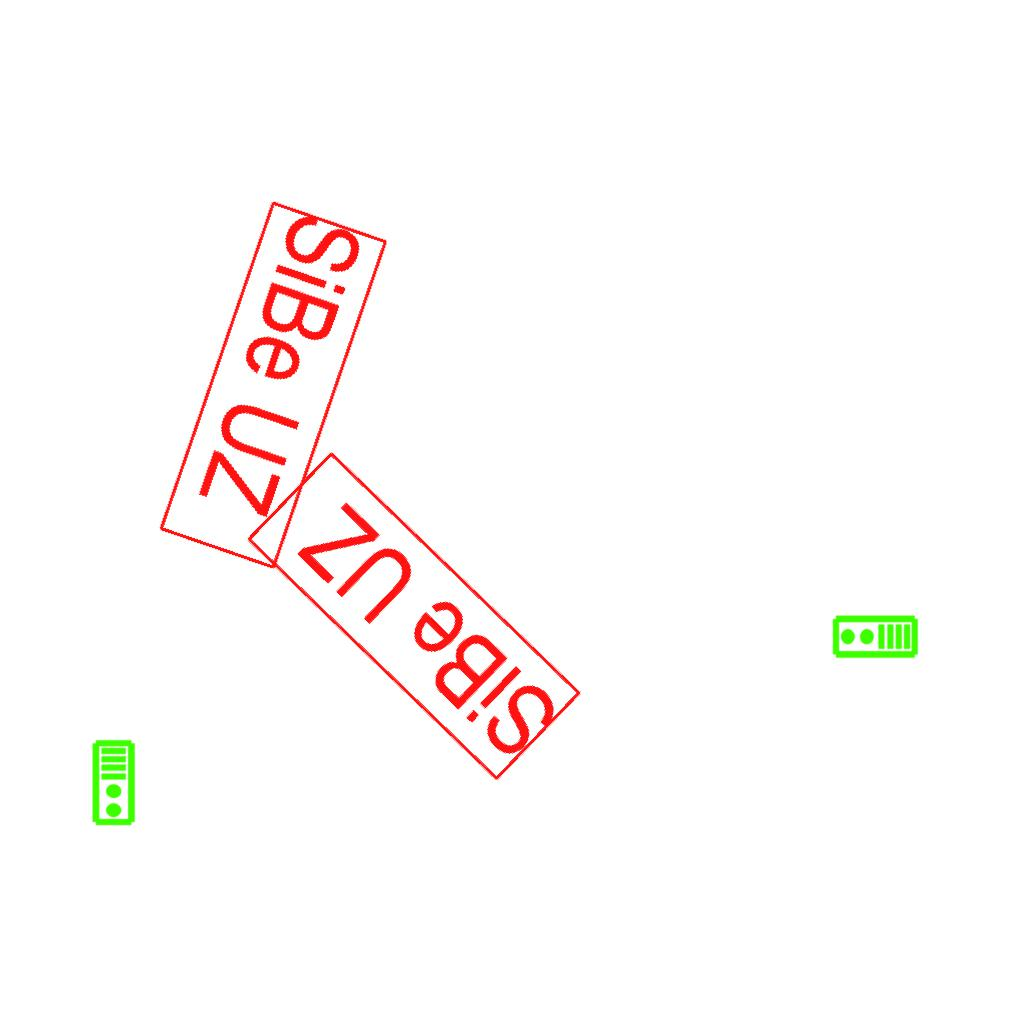Gegensprechanlage_mit_Video: (91, 739, 138, 827), (831, 614, 919, 661)
Zentrale_Sicherheitsbeleuchtung: (239, 444, 588, 786), (152, 196, 393, 576)
